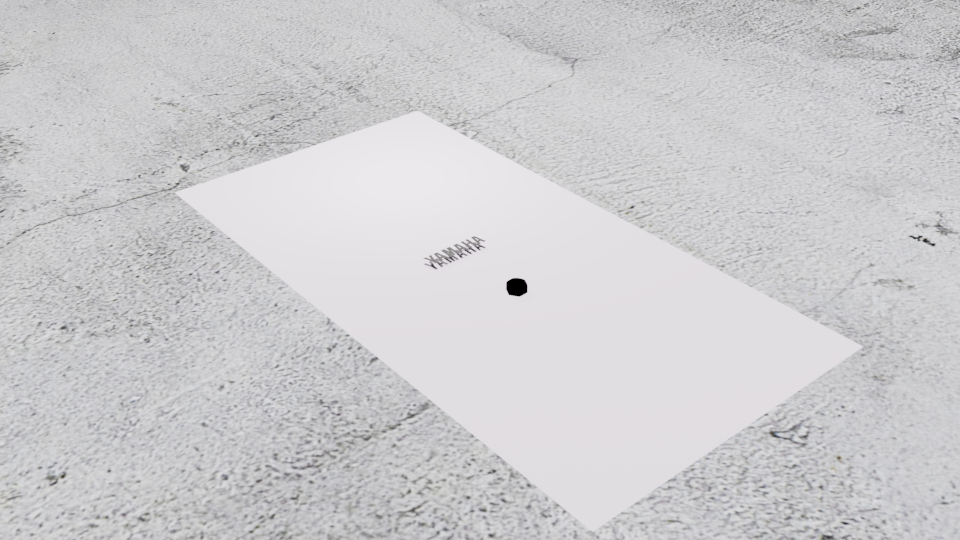yamaha_letters: (422, 235, 486, 264)
